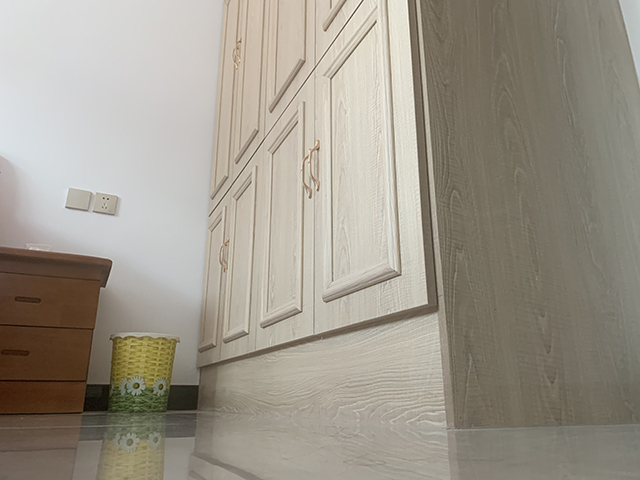cabinet: (195, 1, 640, 431), (1, 245, 114, 415)
trashcan: (105, 332, 182, 414)
